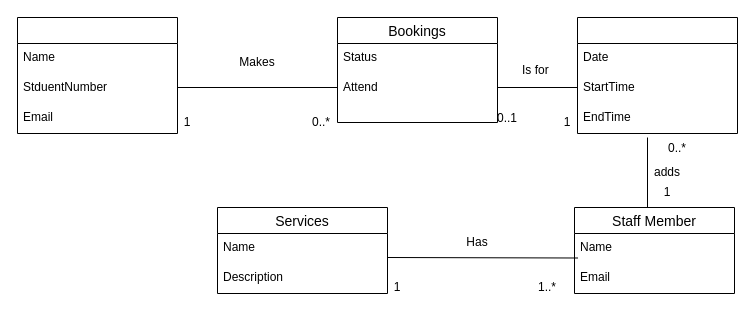
This 755x320 diagram has some shape labels left out. Each missing label, with the box of its shape:
Students: (16, 16, 178, 134)
TimeSlot: (576, 16, 738, 134)
